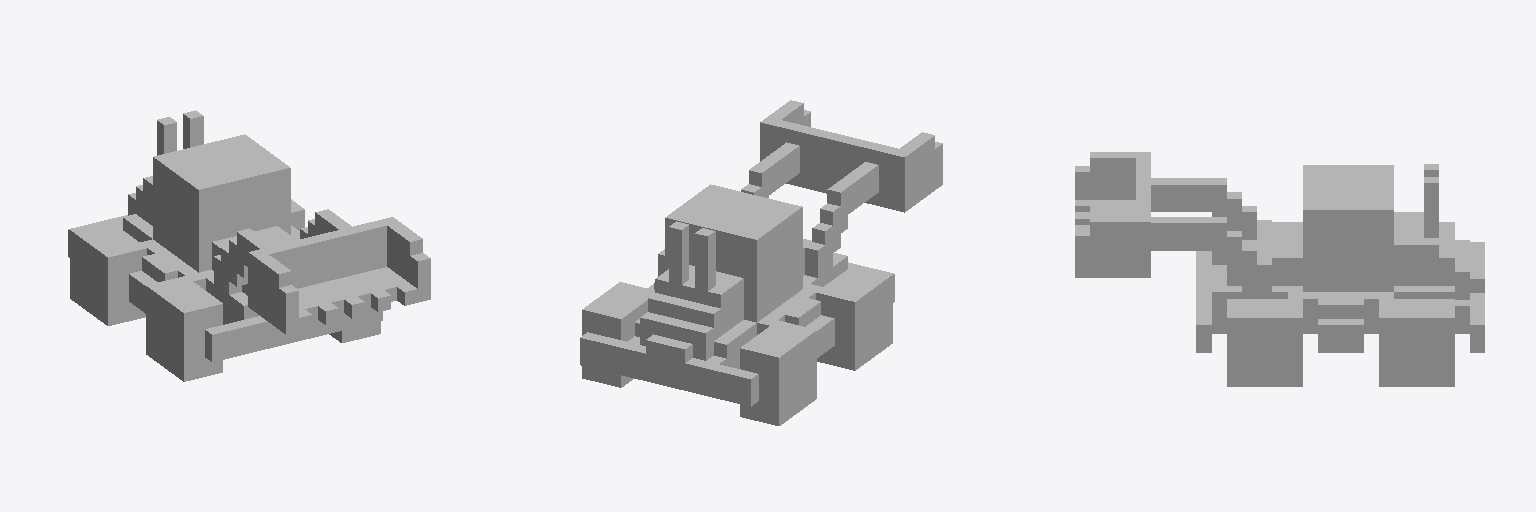
File: tractor.obj
3 renders of one model, left to right at view 1: azimuth 30°, elevation 25°; view 2: azimuth 150°, elevation 25°; view 3: azimuth 270°, elevation 25°, orthographic.
Visible parts, largest first — view 1: object 1; view 2: object 1; view 3: object 1.
Boxes of the visible parts, x1,y1,x2,y2 form: object 1: [68, 110, 430, 381]; object 1: [580, 100, 942, 425]; object 1: [1075, 152, 1484, 386].
Bounding box in the file's own units: 1.5 × 1.2 × 2.7.